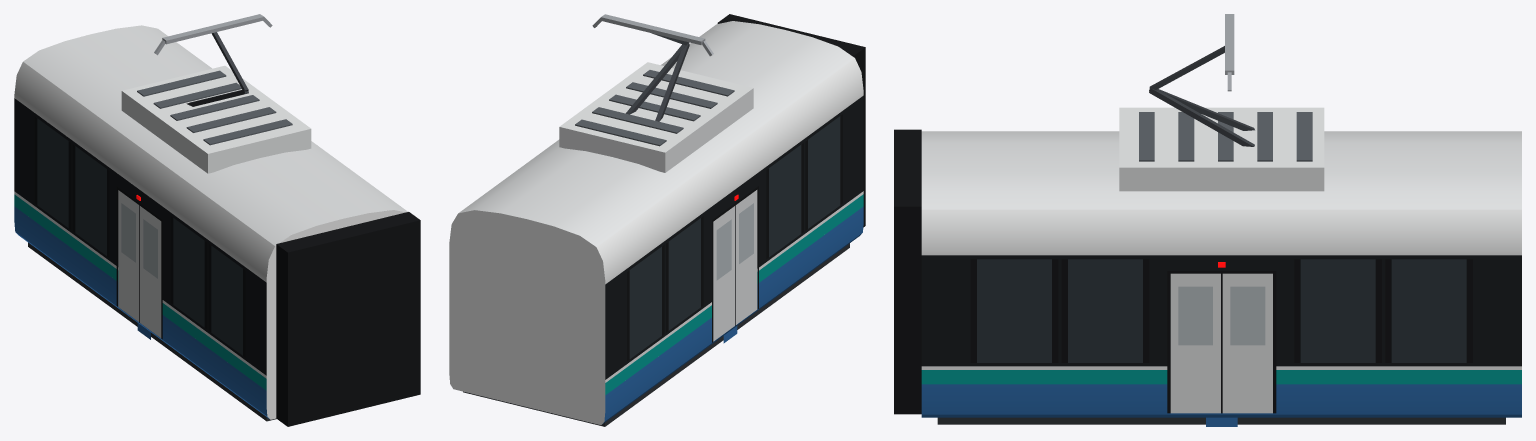
Rendered from kaohsiung-lrt-middle.glb.
3 views of the same model, side by side, from view 1: azimuth 30°, elevation 25°; view 2: azimuth 150°, elevation 25°; view 3: azimuth 270°, elevation 25° (orthographic). The views are drawn at different scales.
Parts seen in each view (by area): view 1: KaohsiungLRT_Middle; view 2: KaohsiungLRT_Middle; view 3: KaohsiungLRT_Middle.
Part boxes in pixels (x1,y1,x2,y2): KaohsiungLRT_Middle: [14, 14, 420, 426]; KaohsiungLRT_Middle: [449, 14, 865, 426]; KaohsiungLRT_Middle: [894, 14, 1521, 426].
Bounding box in the file's own units: 2.73 × 4.91 × 7.95.
